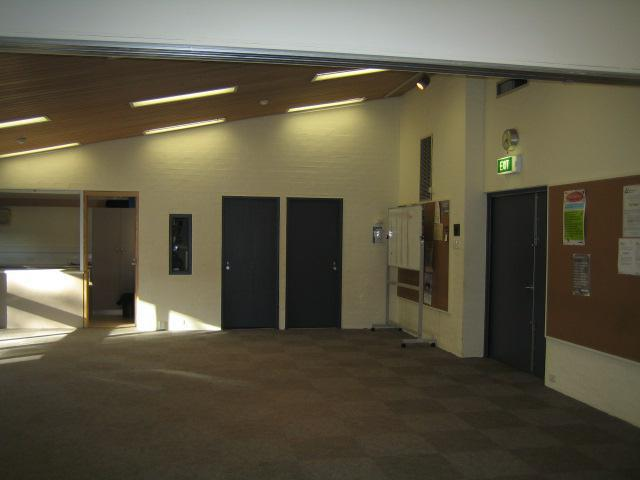Bote de Basura: (115, 290, 140, 321)
Puerta: (487, 195, 546, 372), (287, 196, 342, 330), (223, 196, 278, 327)
